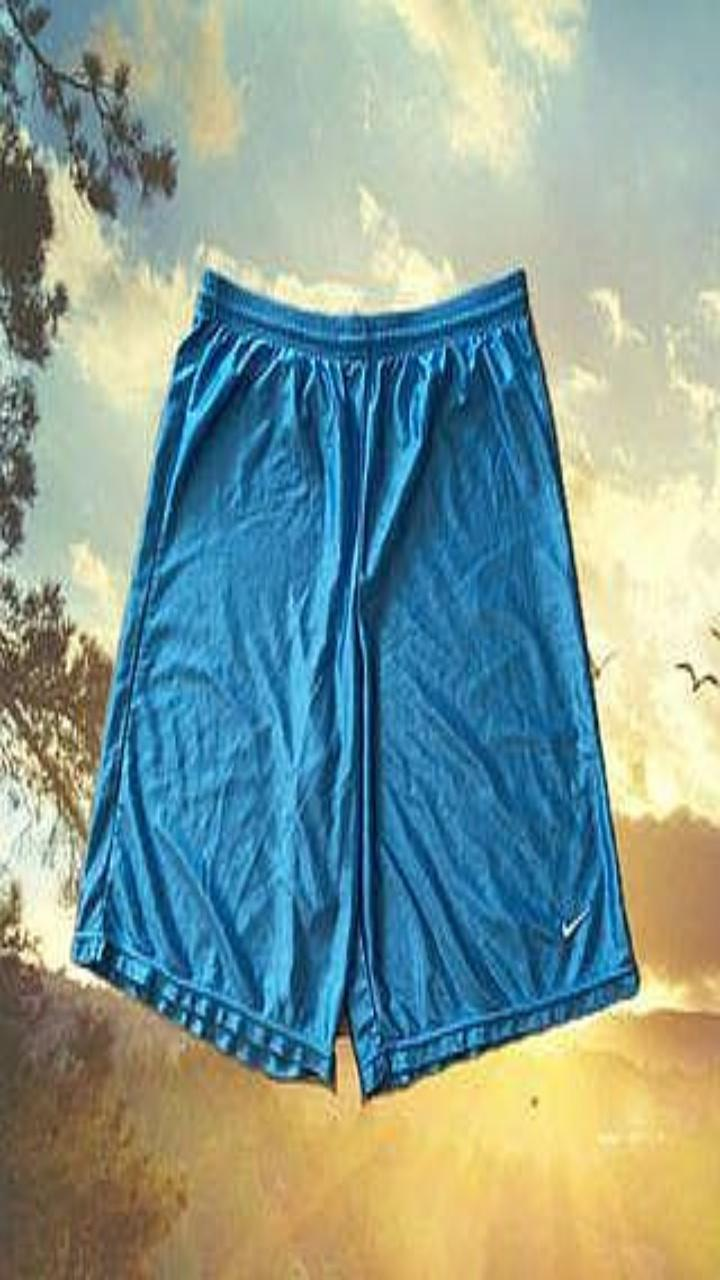Shorts: (71, 268, 639, 1098)
